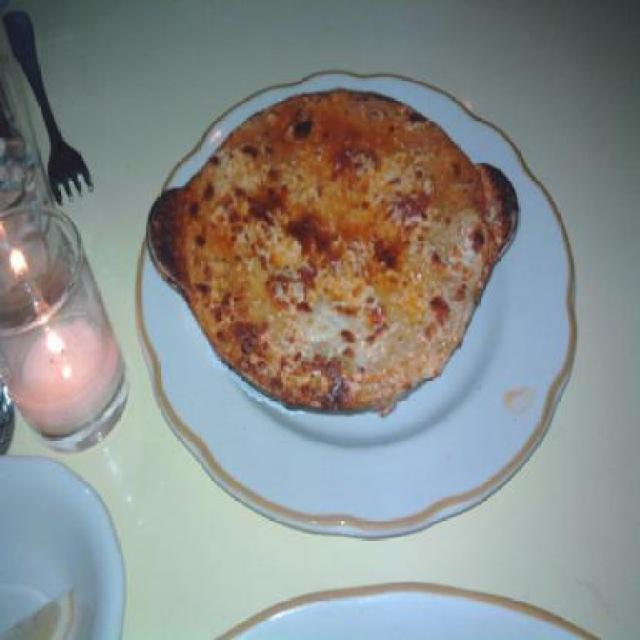Lasagna: (142, 75, 541, 408)
